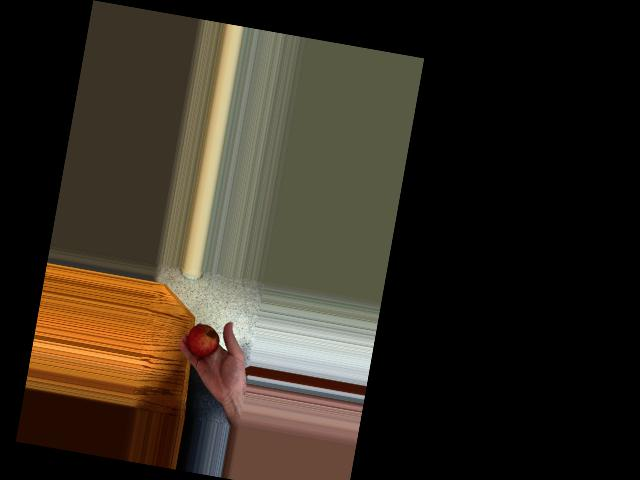apple: (183, 320, 224, 359)
